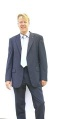male: (14, 12, 34, 38)
